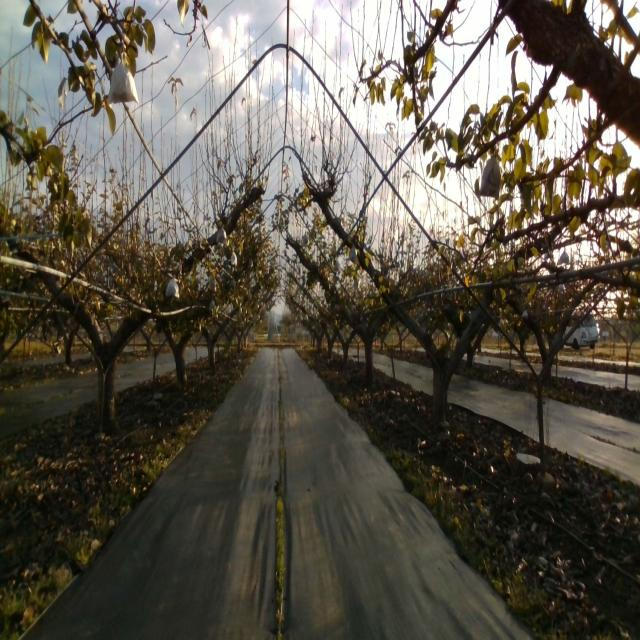pearbags: (105, 54, 138, 105), (478, 150, 502, 200), (166, 274, 180, 300), (346, 243, 359, 267), (216, 226, 227, 246)
